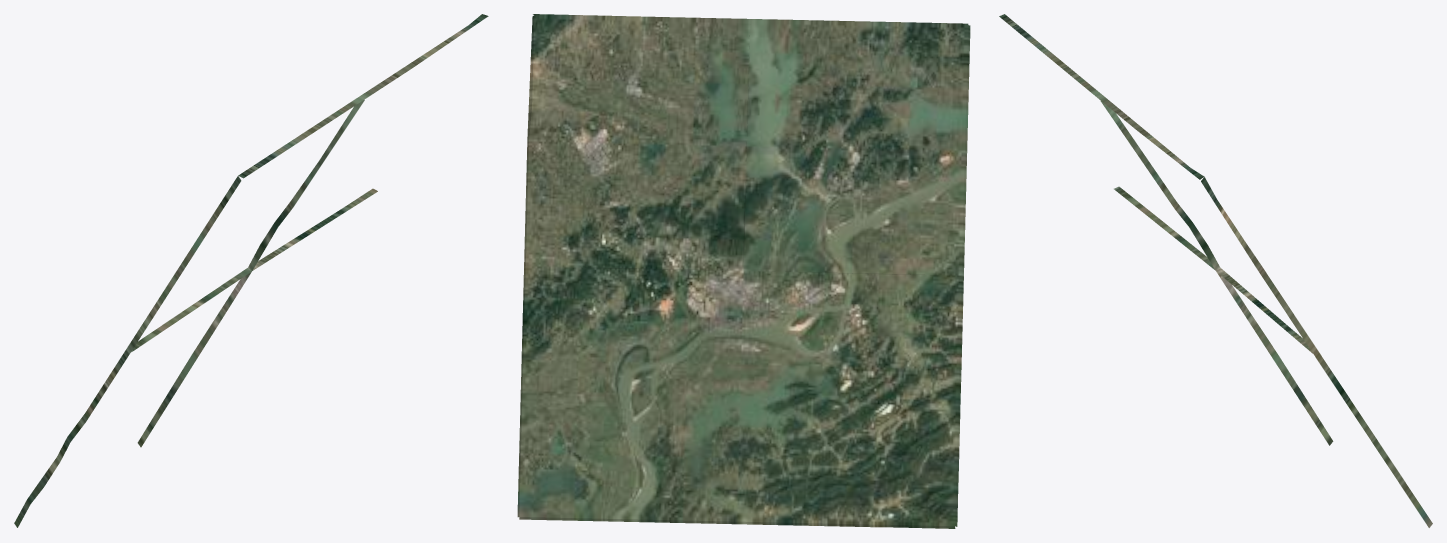
3 renders of one model, left to right at view 1: azimuth 30°, elevation 25°; view 2: azimuth 150°, elevation 25°; view 3: azimuth 270°, elevation 25°, orthographic. The views are drawn at different scales.
Size of the model in its own units: 78834 by 68322 by 67210.
Materials: 1 (1 with a texture image).
